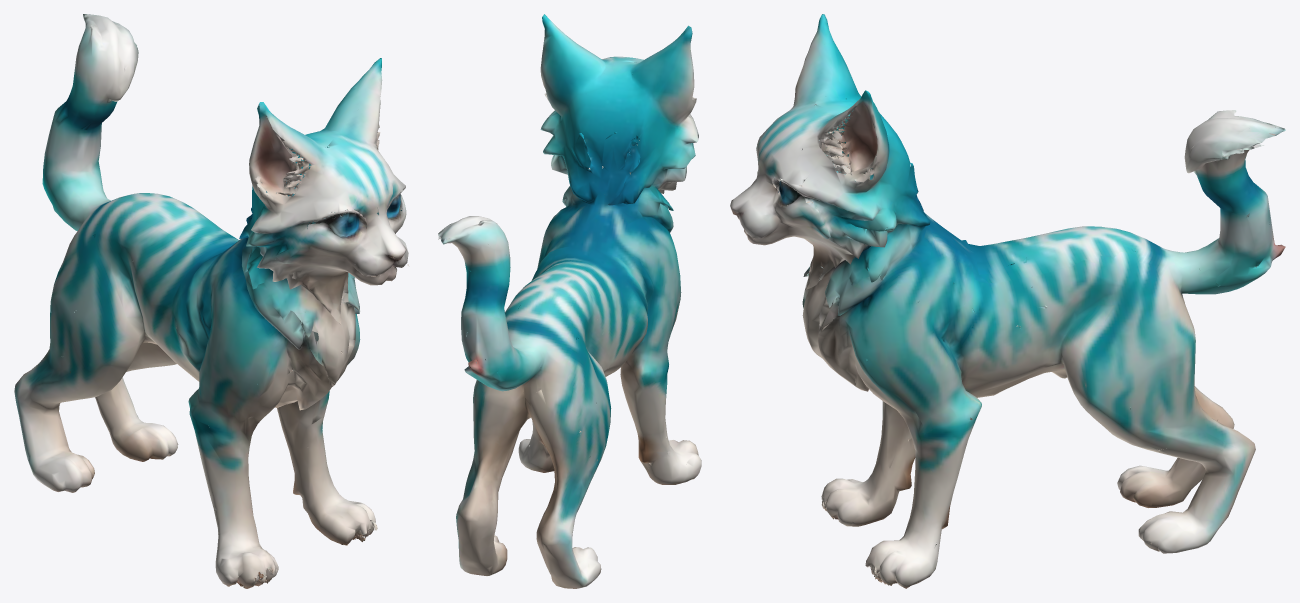
File: fig_lynx.glb
3 views of the same model, side by side, from view 1: azimuth 30°, elevation 25°; view 2: azimuth 150°, elevation 25°; view 3: azimuth 270°, elevation 25° (orthographic). The views are drawn at different scales.
Parts seen in each view (by area): view 1: fig_lynx; view 2: fig_lynx; view 3: fig_lynx.
Part boxes in pixels (box(x1,y1,x2,y2)): fig_lynx: box(14, 14, 409, 588); fig_lynx: box(438, 14, 701, 588); fig_lynx: box(730, 14, 1285, 588).
Bounding box in the file's own units: 0.4406 × 1 × 0.9992.
1 material, 1 textured.
